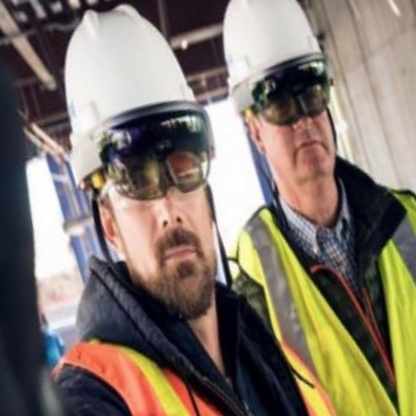vest: (222, 147, 416, 416), (47, 273, 359, 416)
white: (30, 0, 223, 184), (192, 0, 339, 110)
